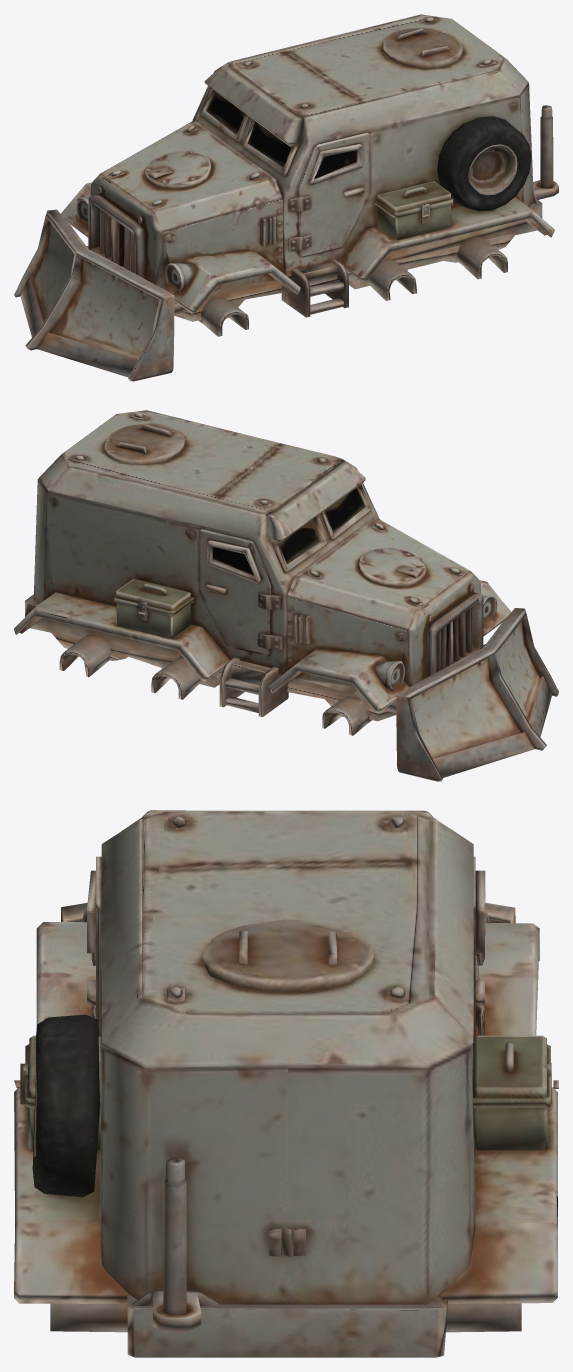
File: big_rig_front_body.glb
The picture shows the model from 3 angles, top to bottom: view 1: azimuth 30°, elevation 25°; view 2: azimuth 150°, elevation 25°; view 3: azimuth 270°, elevation 25°; orthographic projection. The views are drawn at different scales.
Visible parts, largest first — view 1: geometry_0; view 2: geometry_0; view 3: geometry_0.
Part boxes in pixels (x1=…): geometry_0: x1=14, y1=14, x2=558, y2=381; geometry_0: x1=14, y1=410, x2=558, y2=781; geometry_0: x1=14, y1=810, x2=558, y2=1357.
Bounding box in the file's own units: 0.9565 × 0.3906 × 0.4702.
1 material, 1 textured.
